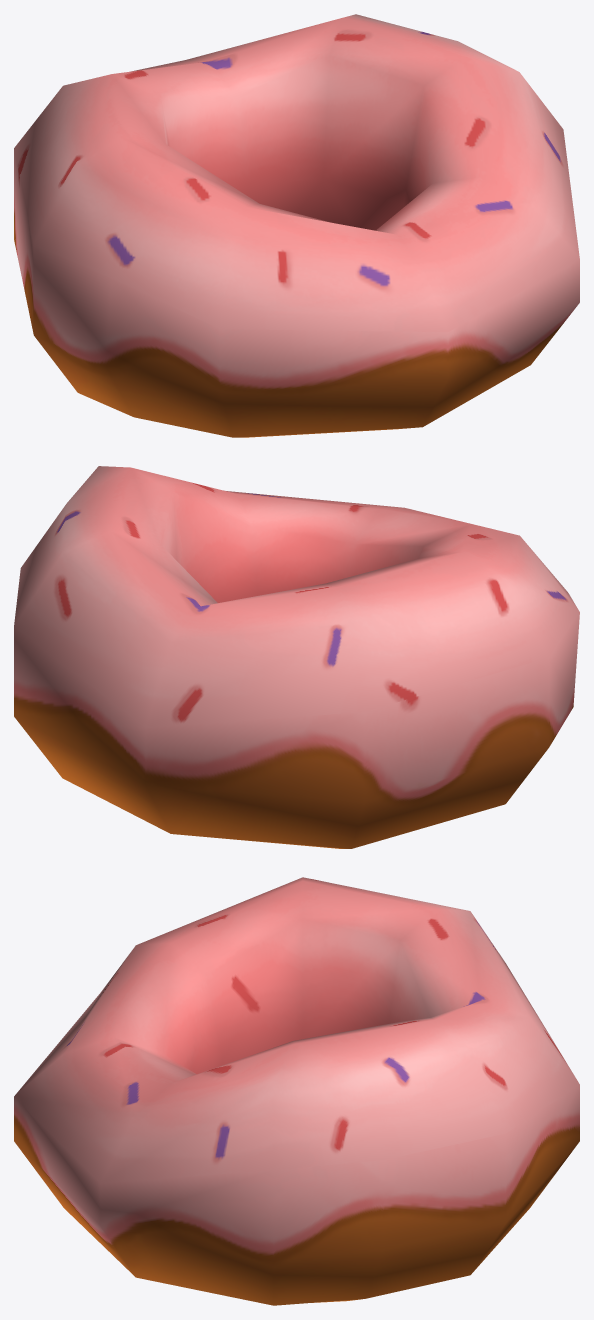
Rendered from donut-low-poly.fbx.
3 views of the same model, one above another, from view 1: azimuth 30°, elevation 25°; view 2: azimuth 150°, elevation 25°; view 3: azimuth 270°, elevation 25° (orthographic).
Parts seen in each view (by area): view 1: taco; view 2: taco; view 3: taco.
Part boxes in pixels (x1,y1,x2,y2): taco: (14, 14, 579, 437); taco: (14, 466, 579, 848); taco: (14, 877, 579, 1305).
Bounding box in the file's own units: 12.21 × 6.01 × 11.82.
1 material, 1 textured.
